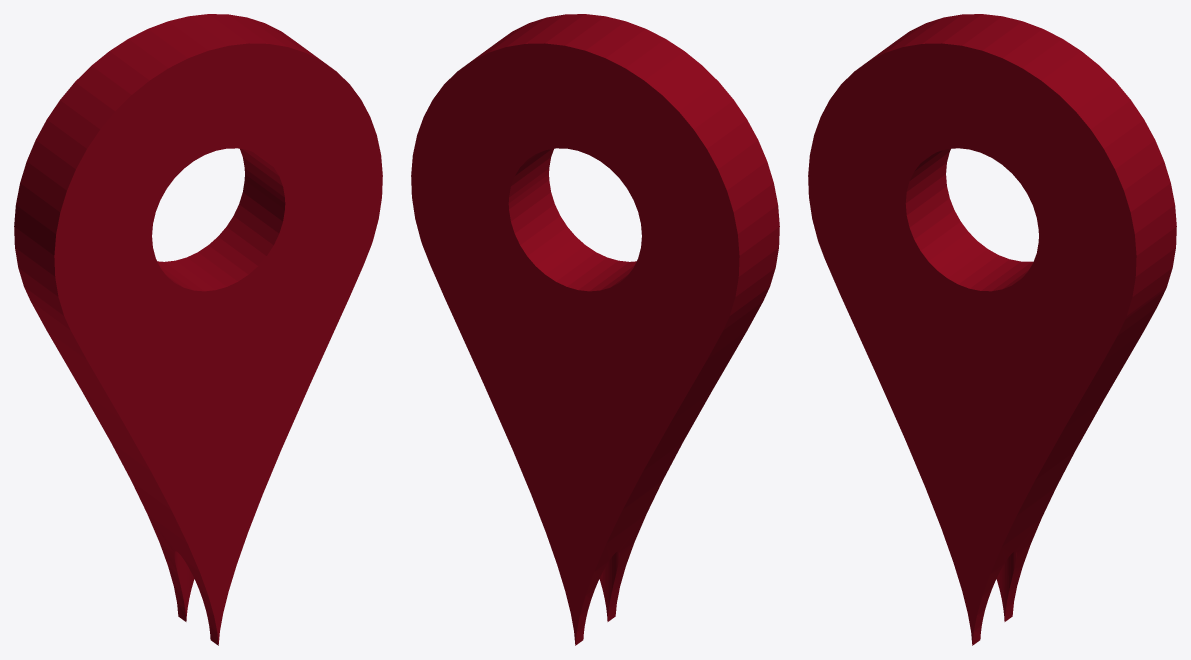
Rendered from google_pinmetallicred.obj.
3 views of the same model, side by side, from view 1: azimuth 30°, elevation 25°; view 2: azimuth 150°, elevation 25°; view 3: azimuth 330°, elevation 25° (orthographic).
Visible parts, largest first — view 1: Object.1; view 2: Object.1; view 3: Object.1.
Boxes of the visible parts, bbox=[...] form: Object.1: bbox=[14, 14, 382, 645]; Object.1: bbox=[411, 14, 779, 645]; Object.1: bbox=[808, 14, 1176, 645].
Size of the model in its own units: 9.42 by 16.37 by 2.
